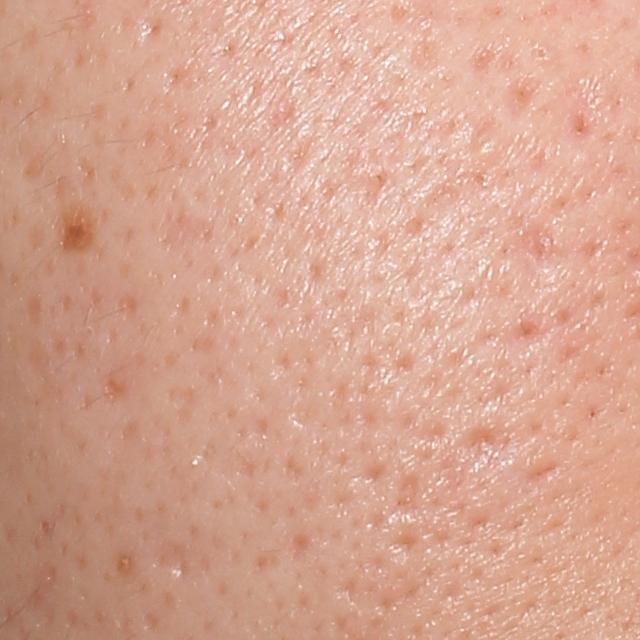atrophic_scar: (494, 73, 546, 127), (458, 424, 506, 466), (147, 538, 192, 580), (397, 463, 424, 512), (388, 531, 422, 559), (137, 16, 164, 40)
